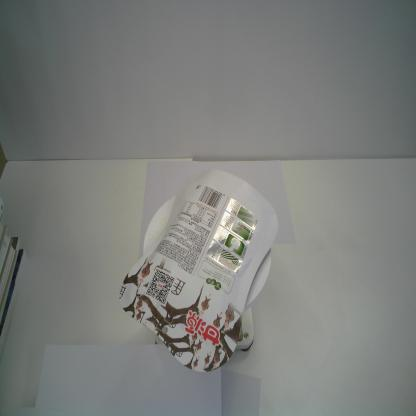Dried Fruit: (118, 166, 279, 374)
